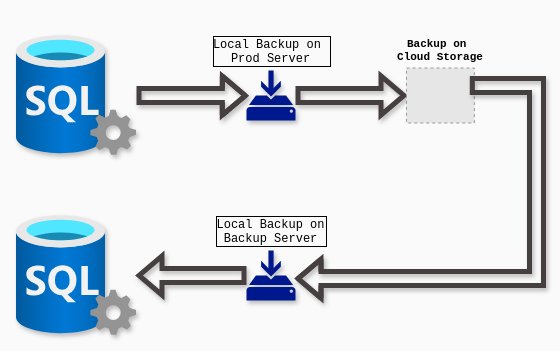
Image size: 560x351. Some labels were removed from this diagram. Grey dashed boxes stand in for pictures. Here are the shapes that lost their labels. From the top down, the centre of each, then its label:
At point (77, 96): "Prod Server".
At point (77, 276): "Backup Server".
